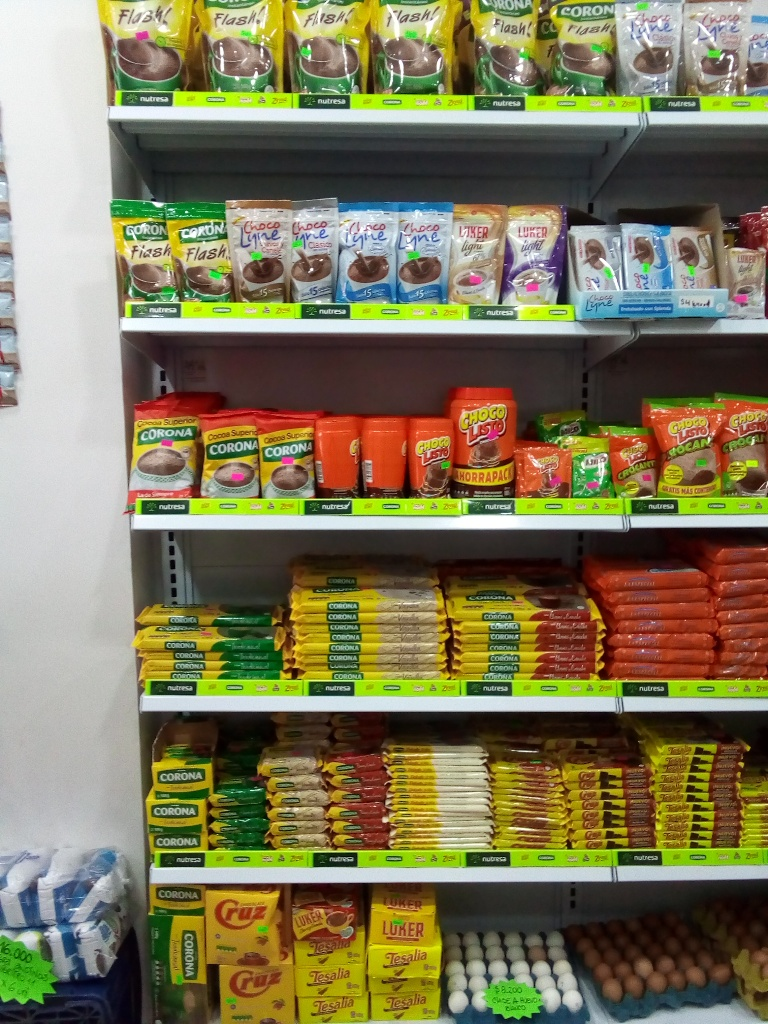COL0170102DYP10000: (608, 426, 662, 500)
COL0170102DYP50000: (649, 398, 726, 503)
COL0170103SOB02000: (518, 444, 570, 499)
COL0170103TRR00100: (449, 383, 518, 497)
COL0170103TRR30000: (316, 419, 360, 499)
